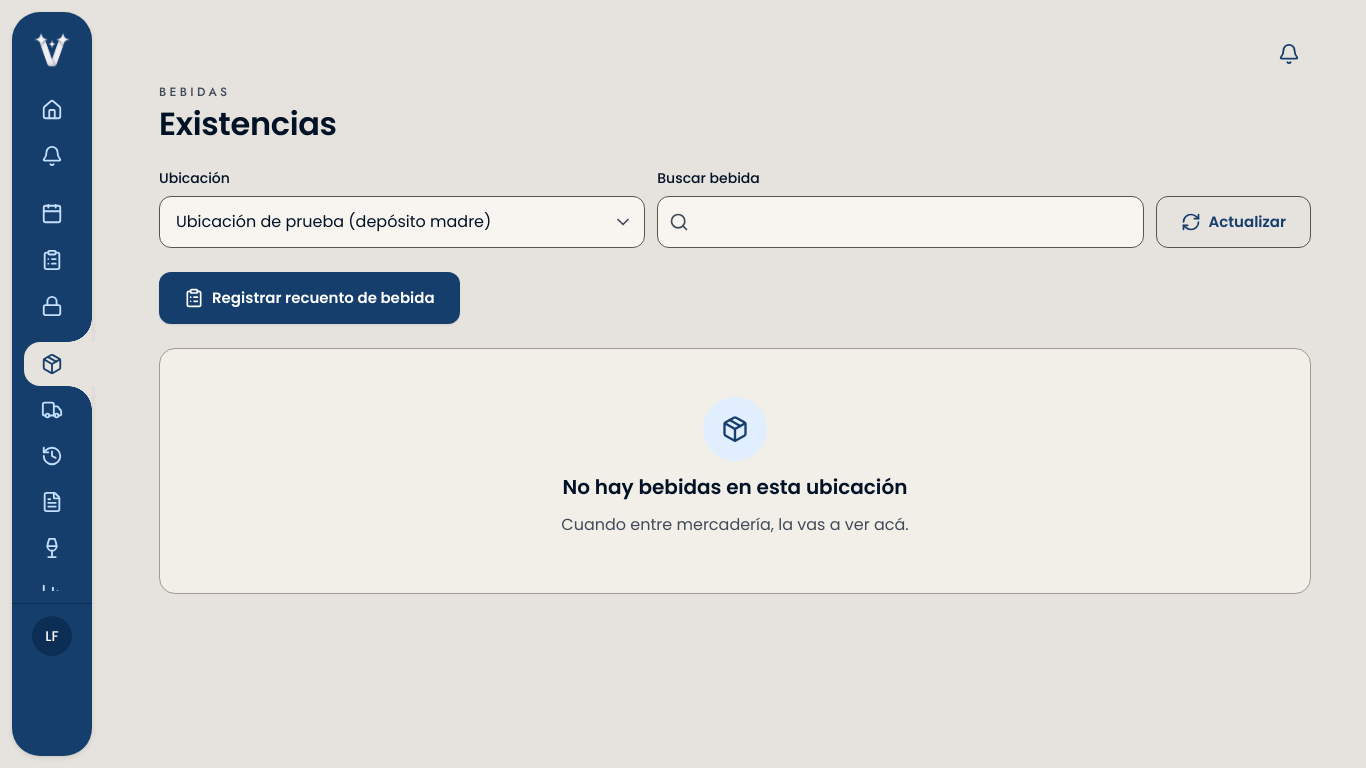
Test case: Recuento desde el catálogo sin saldo previo › permite contar seis botellas ausentes en DEPOSITO
Expected: the heading "No hay bebidas en esta ubicación" is shown, [563,473,907,501]
Click the button "Registrar recuento de bebida".
click(309, 298)  # box [159,272,460,324]
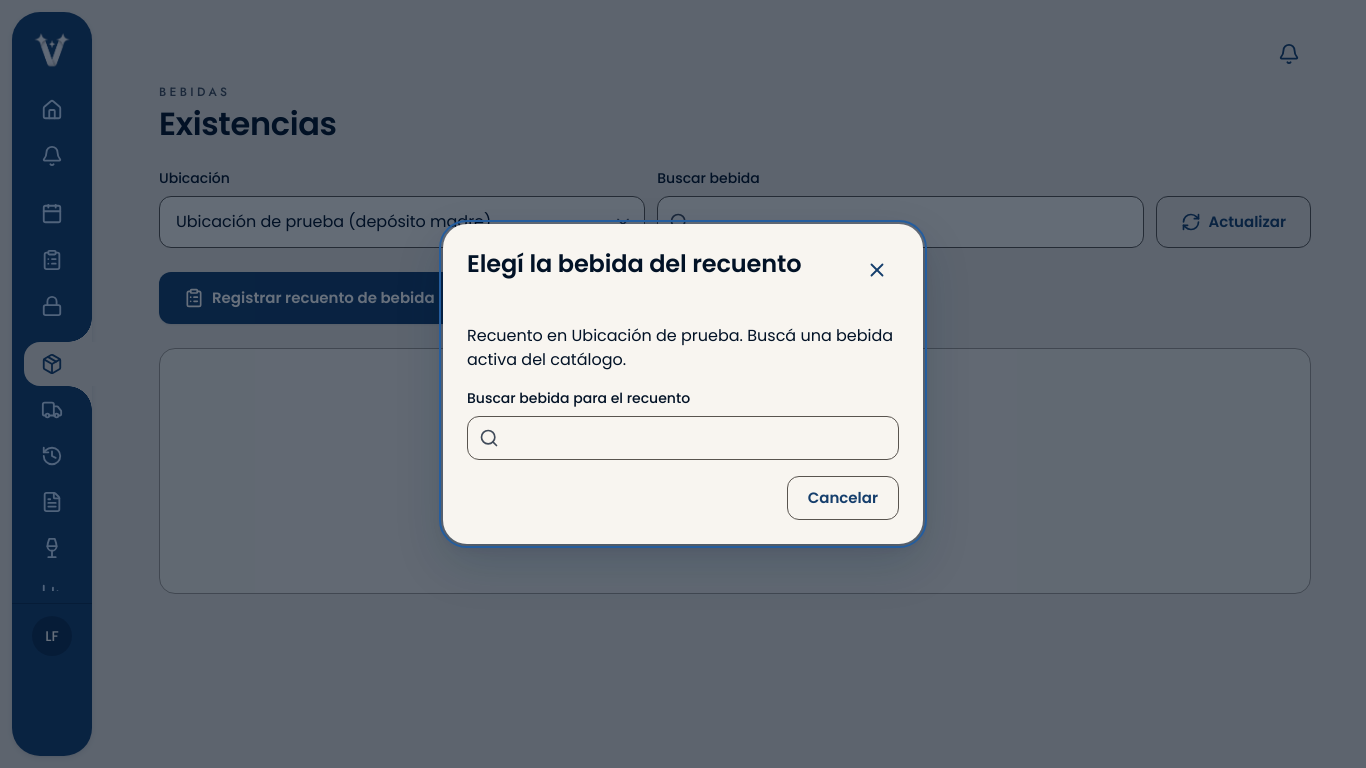
Type "fer" into the dropdown labelled "Buscar bebida para el recuento".
click(683, 438); type("fer")  # box [467,416,899,460]
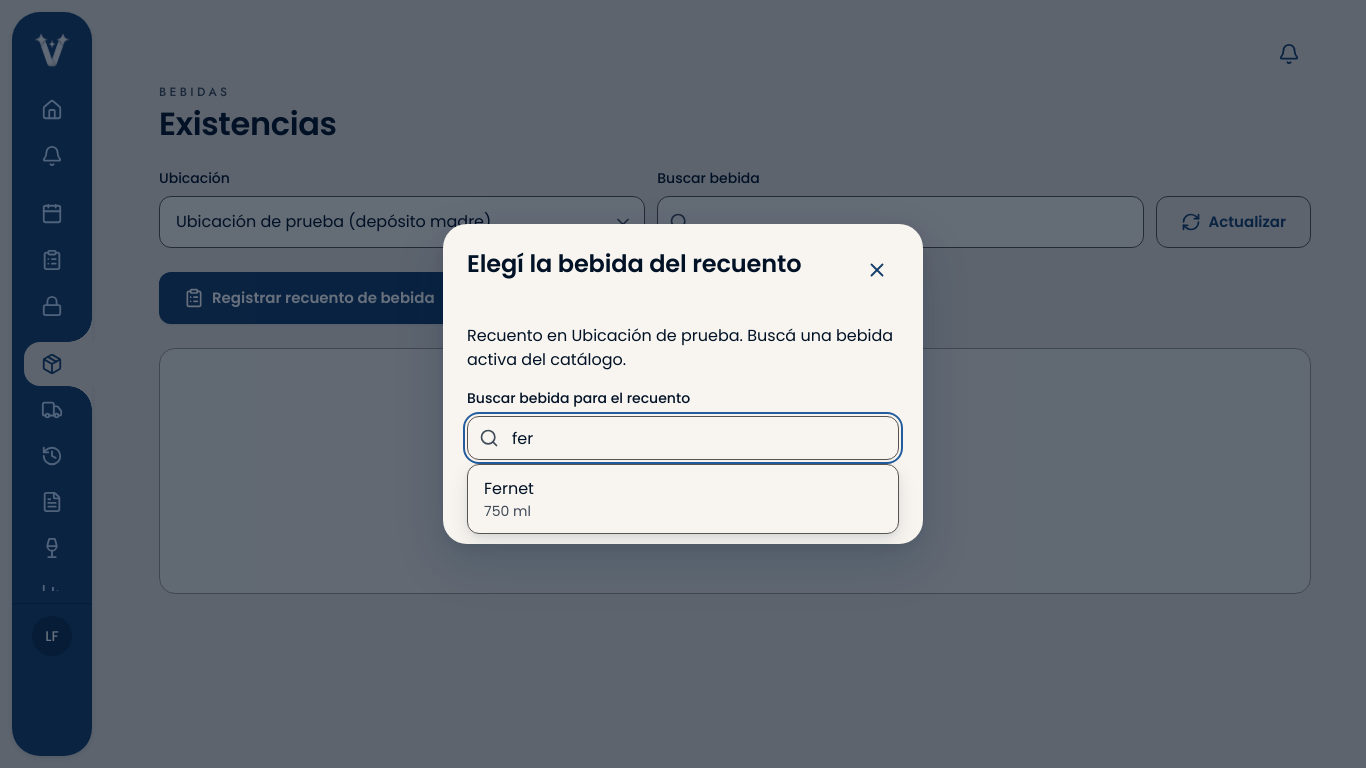
Click the option "Fernet 750 ml".
click(509, 499)  # box [484,477,534,521]
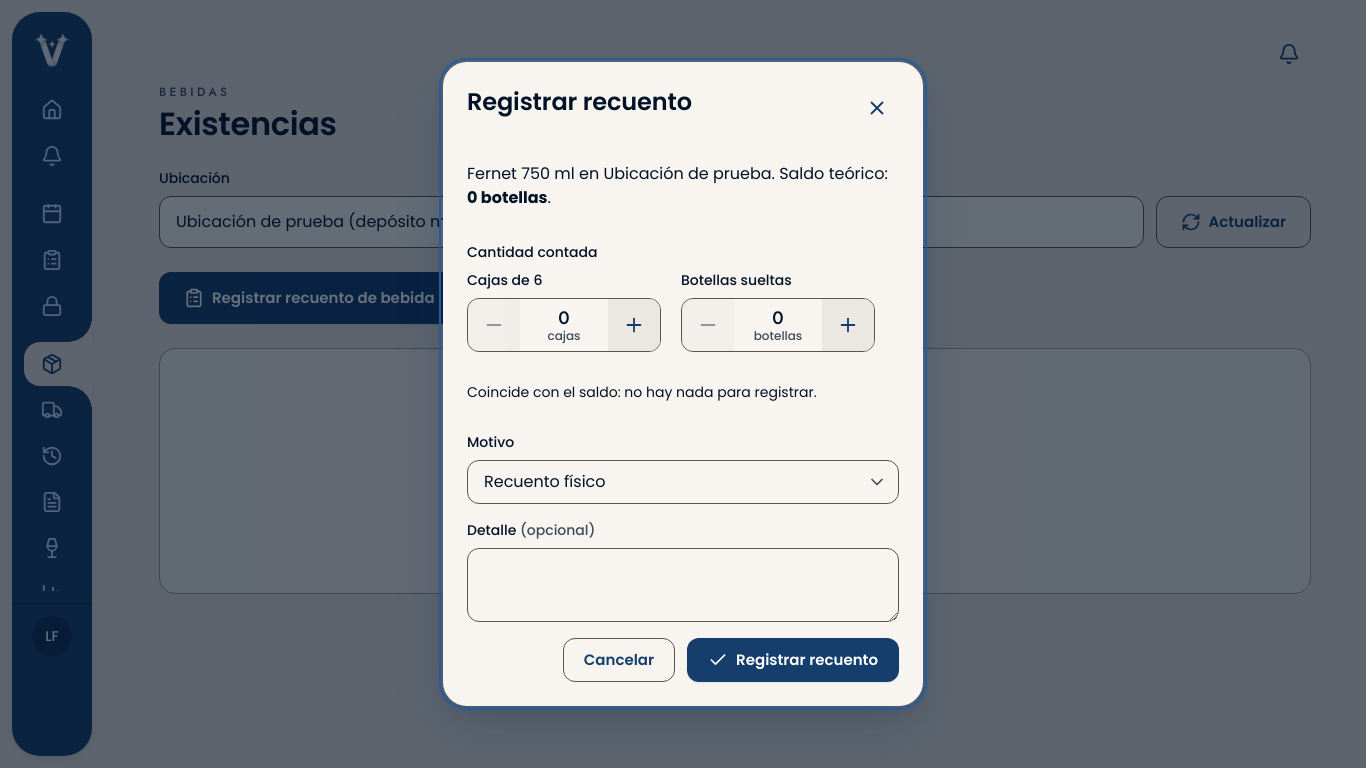
Now the text "0 botellas" is shown, box [467,186,548,209]
Now the text "Coincide con el saldo: no hay nada para registrar." is shown, box [467,382,817,402]
Click the button named "Sumar 1" below "Cajas de 6".
click(634, 325)  # box [608,299,660,351]
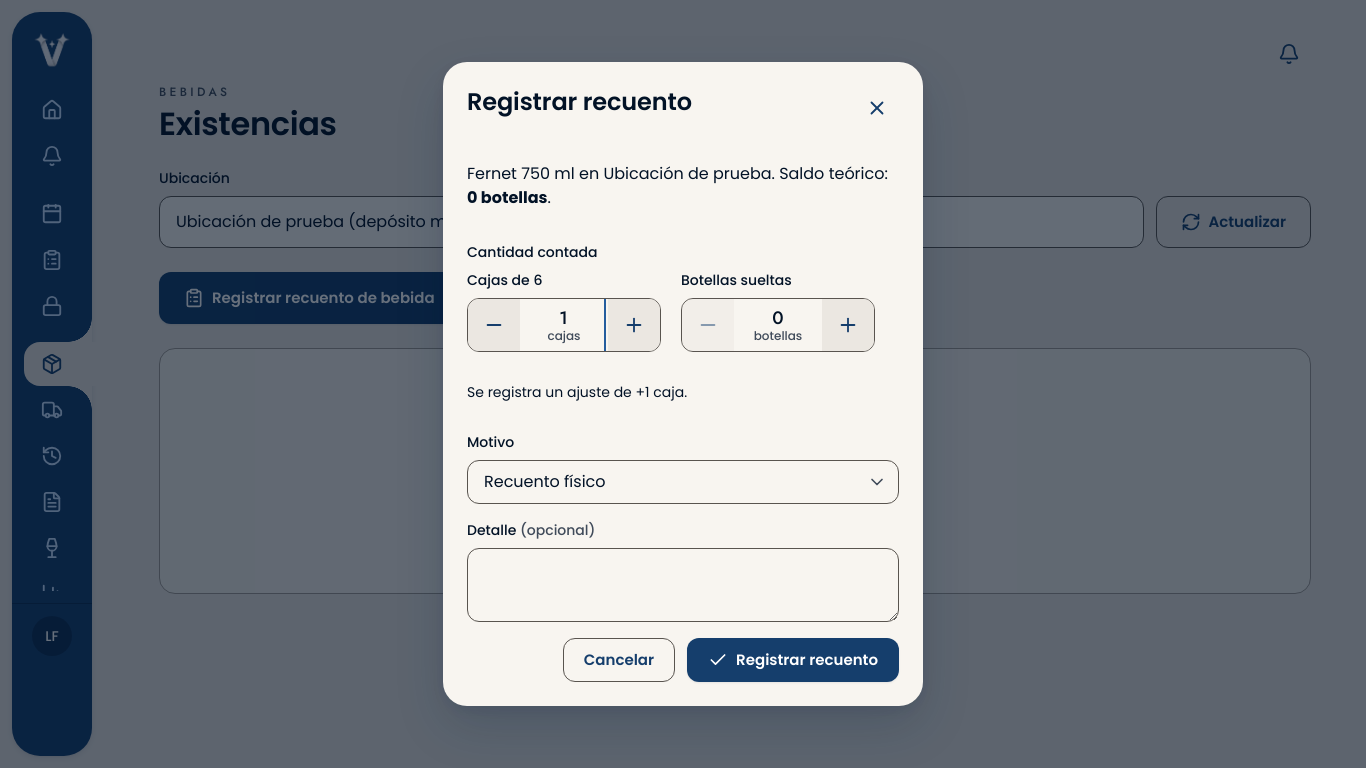
Now the text "Se registra un ajuste de +1 caja." is shown, box [467,382,687,402]
Click the button "Registrar recuento".
click(793, 660)  # box [687,638,899,682]
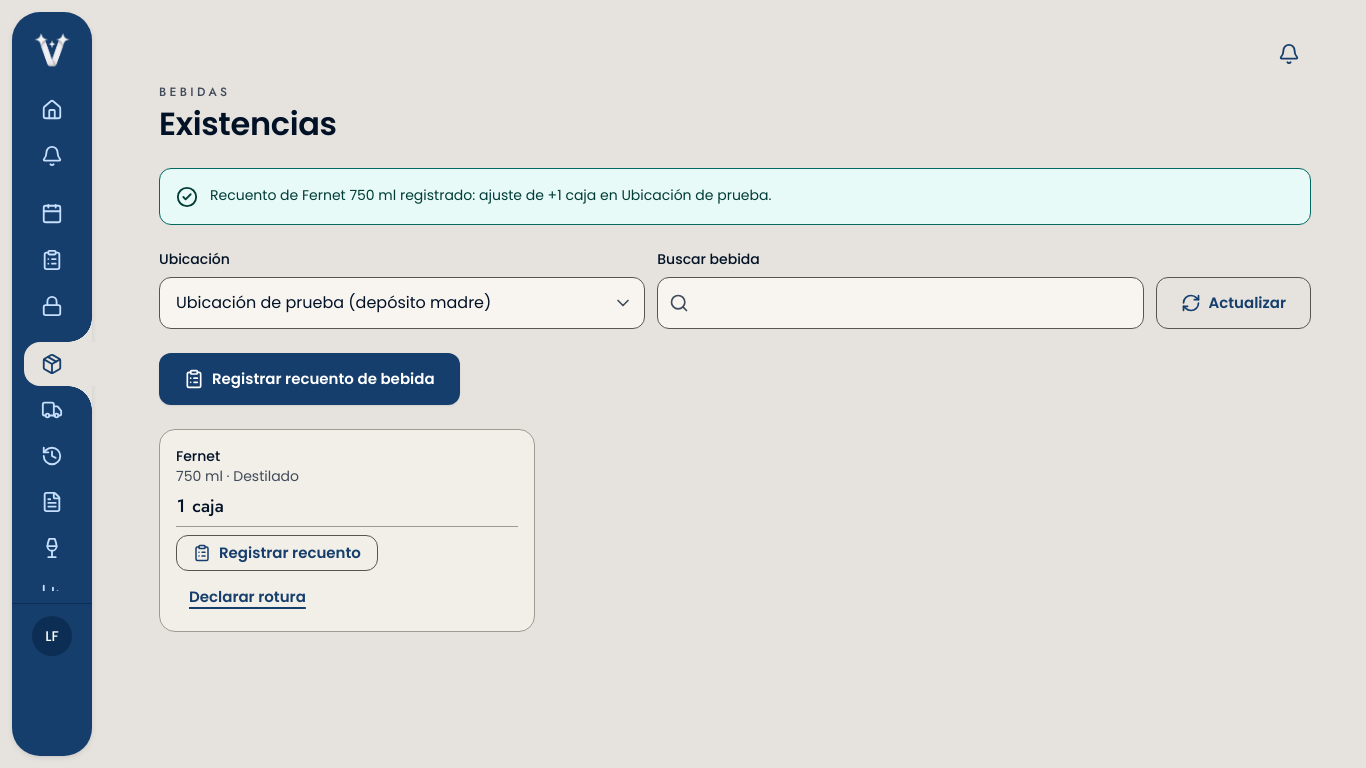
Now the text "Recuento de Fernet 750 ml registrado: ajuste de +1 caja en Ubicación de prueba." is shown, box [210,185,771,205]
Now the text "Fernet" is shown, box [176,446,220,466]
